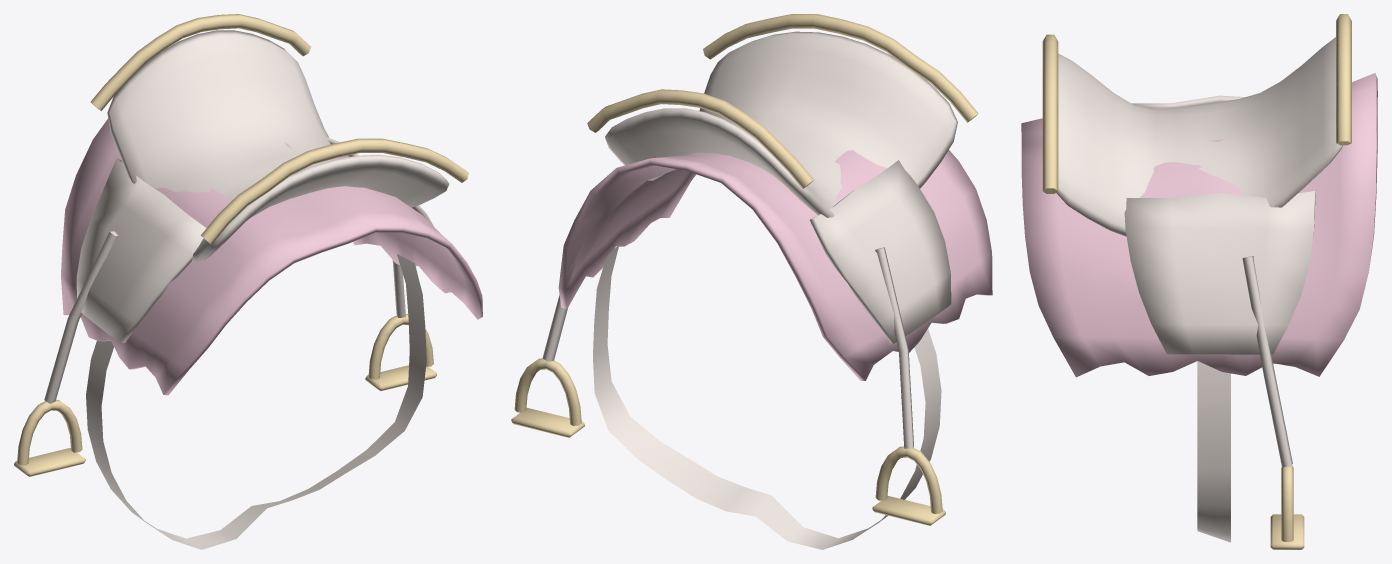
Rendered from mare_saddle.gltf.
3 views of the same model, side by side, from view 1: azimuth 30°, elevation 25°; view 2: azimuth 150°, elevation 25°; view 3: azimuth 270°, elevation 25° (orthographic). The views are drawn at different scales.
Parts seen in each view (by area): view 1: mare_saddle; view 2: mare_saddle; view 3: mare_saddle.
Boxes of the visible parts, left/top/right/bottom form: mare_saddle: left=14, top=14, right=482, bottom=549; mare_saddle: left=511, top=14, right=992, bottom=549; mare_saddle: left=1021, top=14, right=1377, bottom=549.
Bounding box in the file's own units: 0.919 × 0.9867 × 0.6319.
